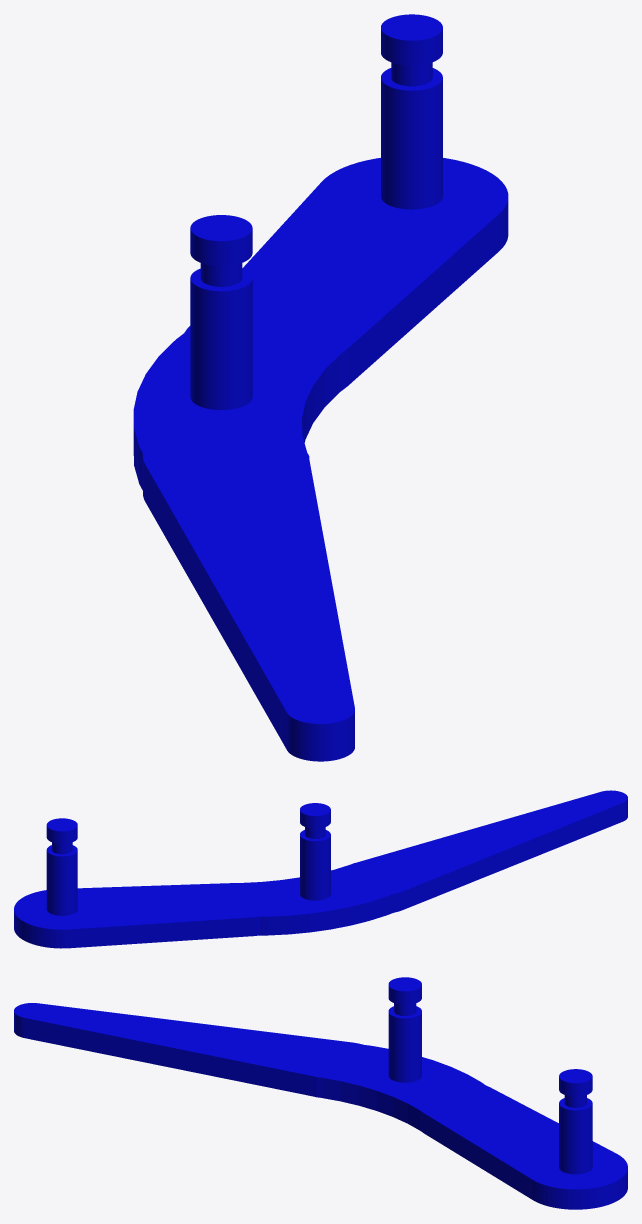
The model's file is leg_PCBWay Community.011.dae.
The picture shows the model from 3 angles, top to bottom: view 1: azimuth 30°, elevation 25°; view 2: azimuth 150°, elevation 25°; view 3: azimuth 270°, elevation 25°; orthographic projection. The views are drawn at different scales.
Visible parts, largest first — view 1: tmp_export_leg_PCBWay Community.011; view 2: tmp_export_leg_PCBWay Community.011; view 3: tmp_export_leg_PCBWay Community.011.
Part boxes in pixels (left/top/right/bottom): tmp_export_leg_PCBWay Community.011: left=133, top=14, right=508, bottom=761; tmp_export_leg_PCBWay Community.011: left=14, top=790, right=627, bottom=948; tmp_export_leg_PCBWay Community.011: left=14, top=977, right=627, bottom=1209.
Size of the model in its own units: 0.0592 by 0.0824 by 0.0165.
